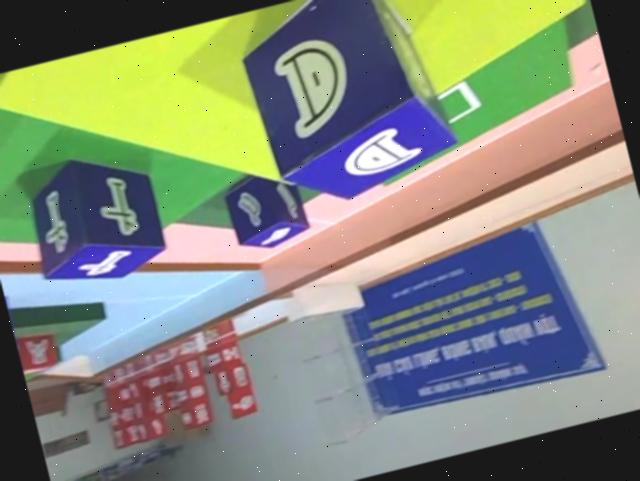R2 Real Blue: (234, 0, 471, 221), (234, 0, 469, 217), (18, 142, 177, 299), (218, 163, 312, 256)
